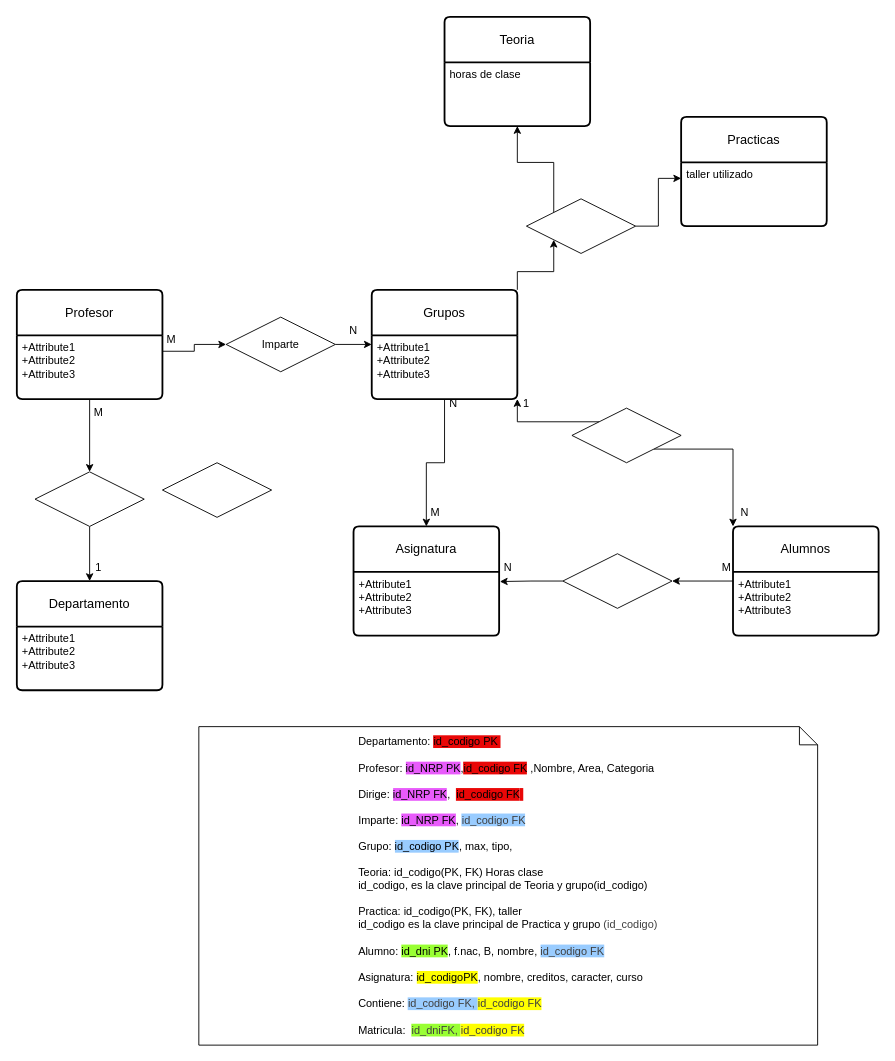
This 895x1061 diagram has some shape labels left out. The shapes that lost their labels are listed below. From the top down, each one's centre as x and y in pixels, then its label:
the point at 581,225: Existen
the point at 626,435: Pertenecen
the point at 89,498: Pertenece
the point at 217,489: Dirige
the point at 617,580: Matriculan
